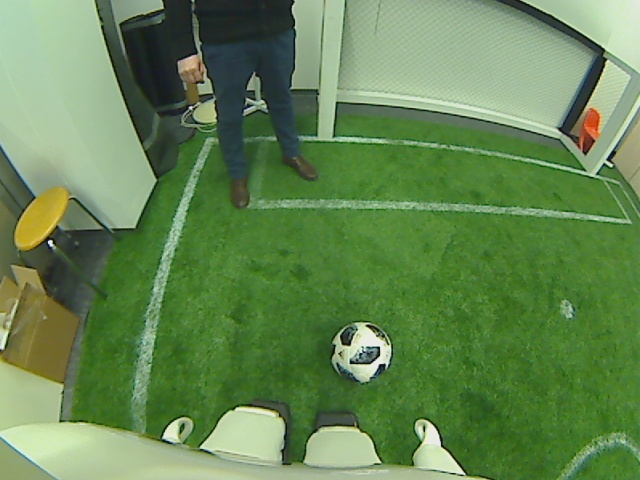ball: (326, 320, 394, 384)
